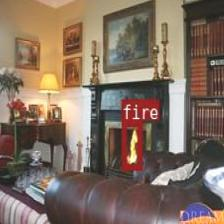fire: (121, 120, 141, 169)
